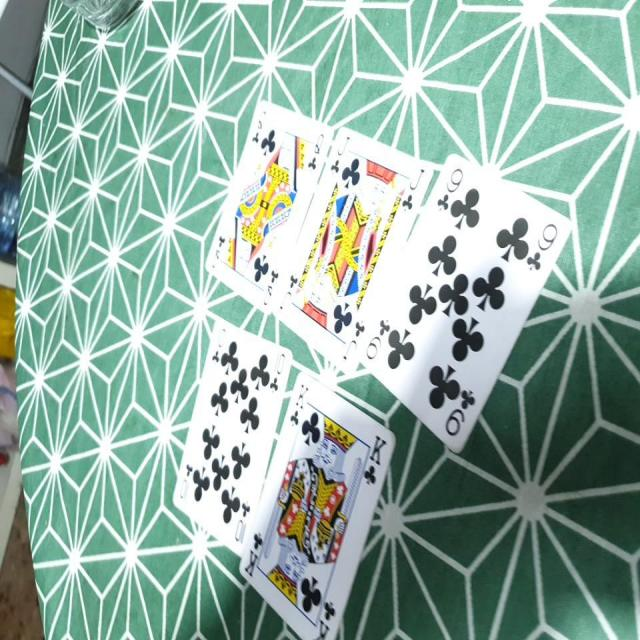10 Trefoils: (170, 316, 290, 558)
9 Trefoils: (358, 149, 575, 450)
J Trefoils: (274, 125, 436, 376)
K Trefoils: (238, 369, 396, 640)
Q Trefoils: (206, 98, 335, 317)
